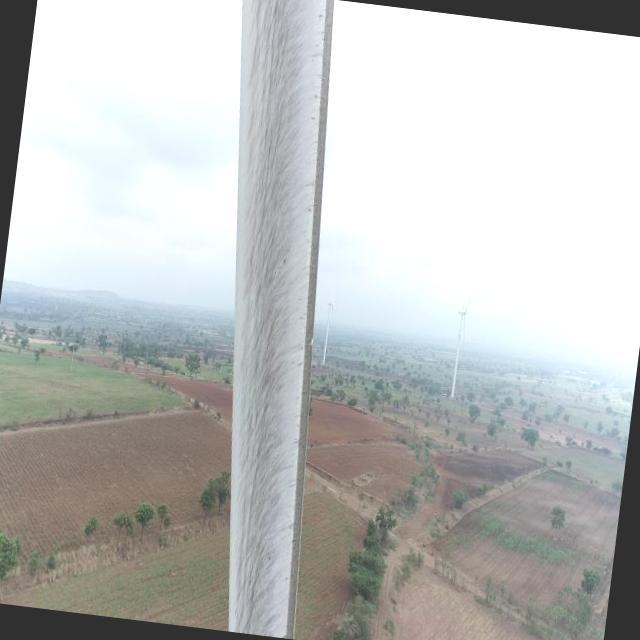Dirt: (229, 0, 332, 640)
